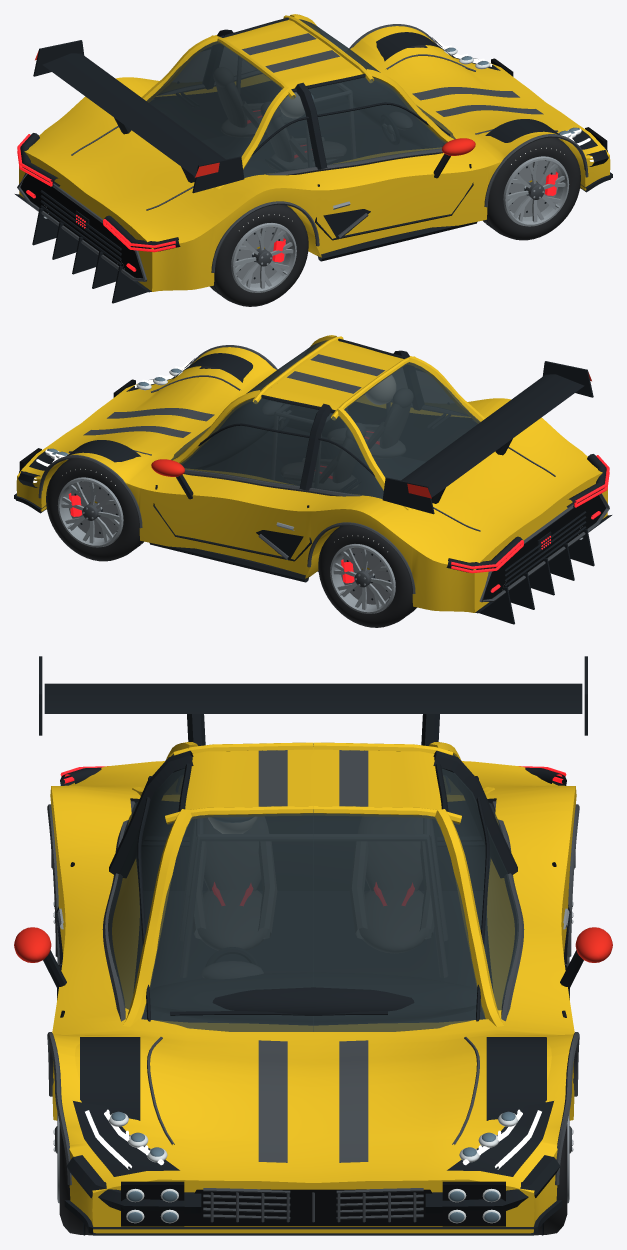
File: fleet-5.glb
3 views of the same model, one above another, from view 1: azimuth 30°, elevation 25°; view 2: azimuth 150°, elevation 25°; view 3: azimuth 270°, elevation 25° (orthographic). The views are drawn at different scales.
Parts seen in each view (by area): view 1: GT_body, GT_glazing, GT_tyre, GT_rear_wing, GT_cockpit_floor, GT_roof, GT_cockpit_tub, GT_diffuser_fin, GT_roof_pillar.001, GT_rear_fascia, GT_wheel_spoke, GT_dashboard (+29 smaller); view 2: GT_body, GT_glazing, GT_tyre, GT_rear_wing, GT_cockpit_floor, GT_roof, GT_cockpit_tub, GT_diffuser_fin, GT_roof_pillar.001, GT_dashboard, GT_rear_fascia, GT_wheel_spoke (+29 smaller); view 3: GT_body, GT_glazing, GT_rear_wing, GT_cockpit_floor, GT_dashboard, GT_roof, GT_cockpit_tub, GT_wheelwell_liner, GT_hood_race_stripe, GT_roof_pillar.001, GT_bucket_back, GT_bucket_base (+26 smaller).
Boxes of the visible parts, <box> form: GT_body: <box>19,26,610,291</box>; GT_glazing: <box>146,19,455,177</box>; GT_tyre: <box>210,45,580,306</box>; GT_rear_wing: <box>42,53,225,176</box>; GT_cockpit_floor: <box>202,104,421,177</box>; GT_roof: <box>223,20,362,89</box>; GT_cockpit_tub: <box>150,81,444,148</box>; GT_diffuser_fin: <box>32,208,147,303</box>; GT_roof_pillar.001: <box>141,14,454,188</box>; GT_rear_fascia: <box>20,174,142,278</box>; GT_wheel_spoke: <box>235,161,565,288</box>; GT_dashboard: <box>337,78,442,148</box>; GT_body: <box>16,347,607,612</box>; GT_glazing: <box>171,340,480,498</box>; GT_tyre: <box>46,366,416,627</box>; GT_rear_wing: <box>401,374,584,497</box>; GT_cockpit_floor: <box>205,425,424,498</box>; GT_roof: <box>264,341,403,410</box>; GT_cockpit_tub: <box>182,402,476,469</box>; GT_diffuser_fin: <box>479,529,594,624</box>; GT_roof_pillar.001: <box>172,335,485,509</box>; GT_dashboard: <box>184,399,289,469</box>; GT_rear_fascia: <box>483,495,605,599</box>; GT_wheel_spoke: <box>61,482,391,609</box>; GT_body: <box>50,761,576,1233</box>; GT_glazing: <box>108,743,518,1031</box>; GT_rear_wing: <box>44,683,582,713</box>; GT_cockpit_floor: <box>140,891,486,1022</box>; GT_dashboard: <box>150,972,476,1025</box>; GT_roof: <box>185,747,441,809</box>; GT_cockpit_tub: <box>130,798,496,988</box>; GT_wheelwell_liner: <box>80,857,546,1120</box>; GT_hood_race_stripe: <box>258,1040,368,1162</box>; GT_roof_pillar.001: <box>123,742,503,1026</box>; GT_bucket_back: <box>204,817,422,890</box>; GT_bucket_base: <box>197,890,429,952</box>.
Size of the model in its own units: 0.33 by 0.1181 by 0.2077.
